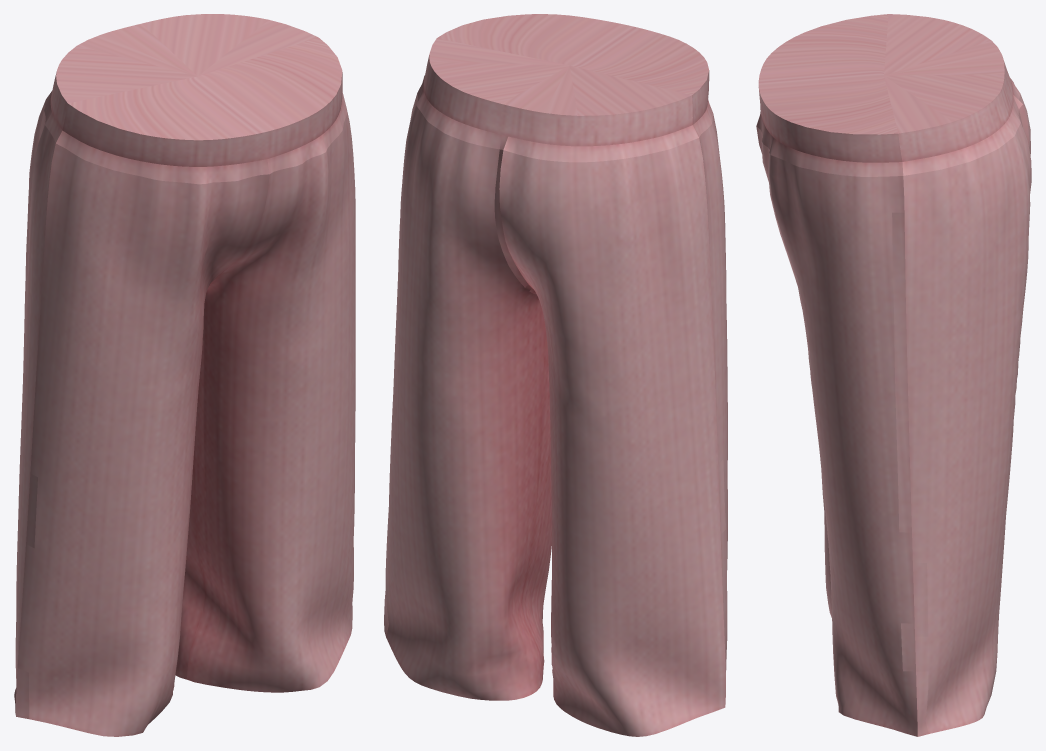
Rendered from bottom3.glb.
The picture shows the model from 3 angles, left to right: view 1: azimuth 30°, elevation 25°; view 2: azimuth 150°, elevation 25°; view 3: azimuth 270°, elevation 25°; orthographic projection. The views are drawn at different scales.
Visible parts, largest first — view 1: s4studio_mesh_1; view 2: s4studio_mesh_1; view 3: s4studio_mesh_1.
Part boxes in pixels (x1=…): s4studio_mesh_1: x1=14, y1=14, x2=355, y2=736; s4studio_mesh_1: x1=384, y1=14, x2=727, y2=736; s4studio_mesh_1: x1=756, y1=14, x2=1031, y2=736.
Bounding box in the file's own units: 0.2524 × 0.4414 × 0.1833.
1 material, 1 textured.
